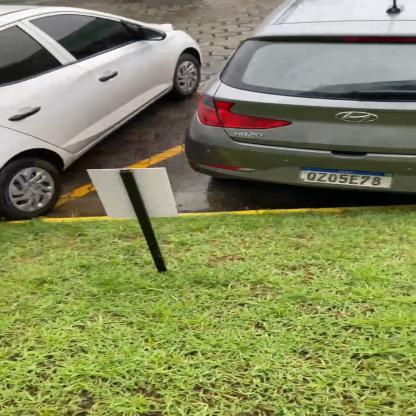Plate: (298, 164, 394, 193)
